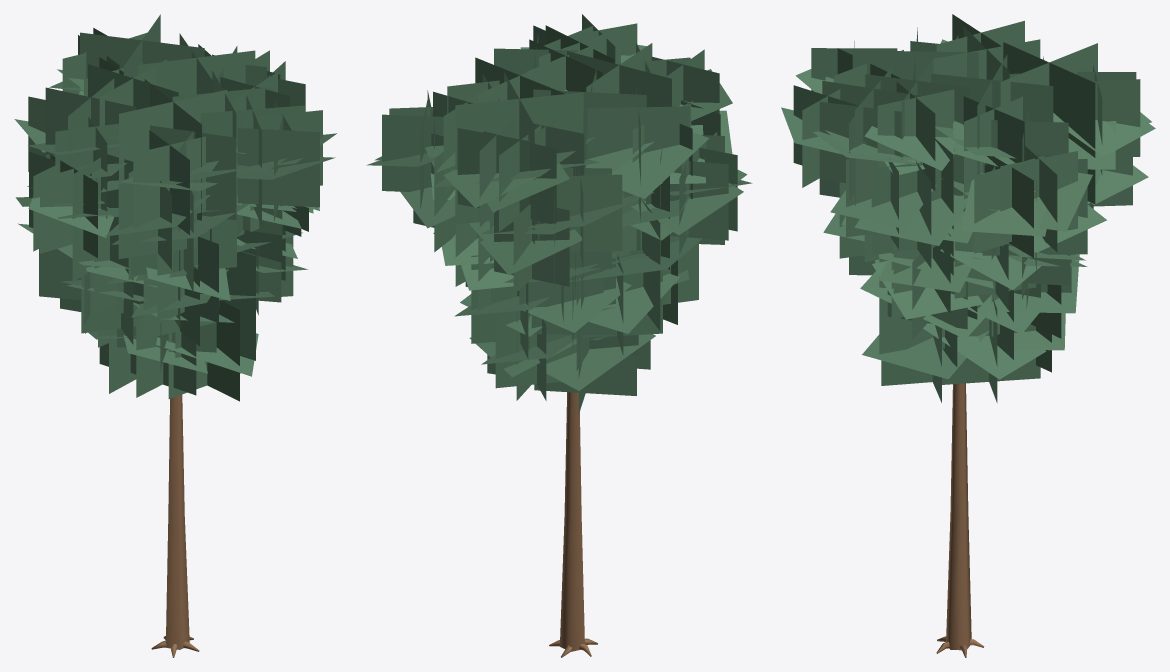
File: pin_4_f3_loin.glb
The picture shows the model from 3 angles, left to right: view 1: azimuth 30°, elevation 25°; view 2: azimuth 150°, elevation 25°; view 3: azimuth 270°, elevation 25°; orthographic projection. The views are drawn at different scales.
Parts seen in each view (by area): view 1: Pin_T4_f3_Leger_Loin; view 2: Pin_T4_f3_Leger_Loin; view 3: Pin_T4_f3_Leger_Loin.
Boxes of the visible parts, x1,y1,x2,y2 form: Pin_T4_f3_Leger_Loin: (14,14,336,657); Pin_T4_f3_Leger_Loin: (366,14,752,657); Pin_T4_f3_Leger_Loin: (781,14,1155,657).
Size of the model in its own units: 11.53 by 19.85 by 11.43.
